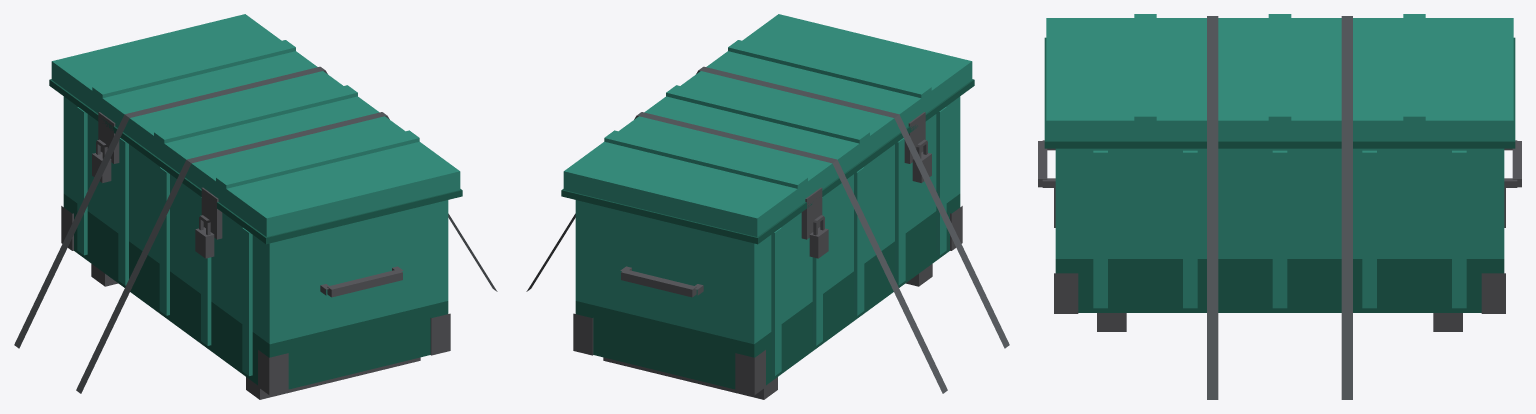
Rendered from job-box.glb.
3 views of the same model, side by side, from view 1: azimuth 30°, elevation 25°; view 2: azimuth 150°, elevation 25°; view 3: azimuth 270°, elevation 25° (orthographic). The views are drawn at different scales.
Visible parts, largest first — view 1: JobBox; view 2: JobBox; view 3: JobBox.
Boxes of the visible parts, bbox=[...] form: JobBox: bbox=[14, 14, 497, 399]; JobBox: bbox=[526, 14, 1009, 399]; JobBox: bbox=[1038, 14, 1521, 399].
Bounding box in the file's own units: 1.4 × 0.662 × 1.29.
